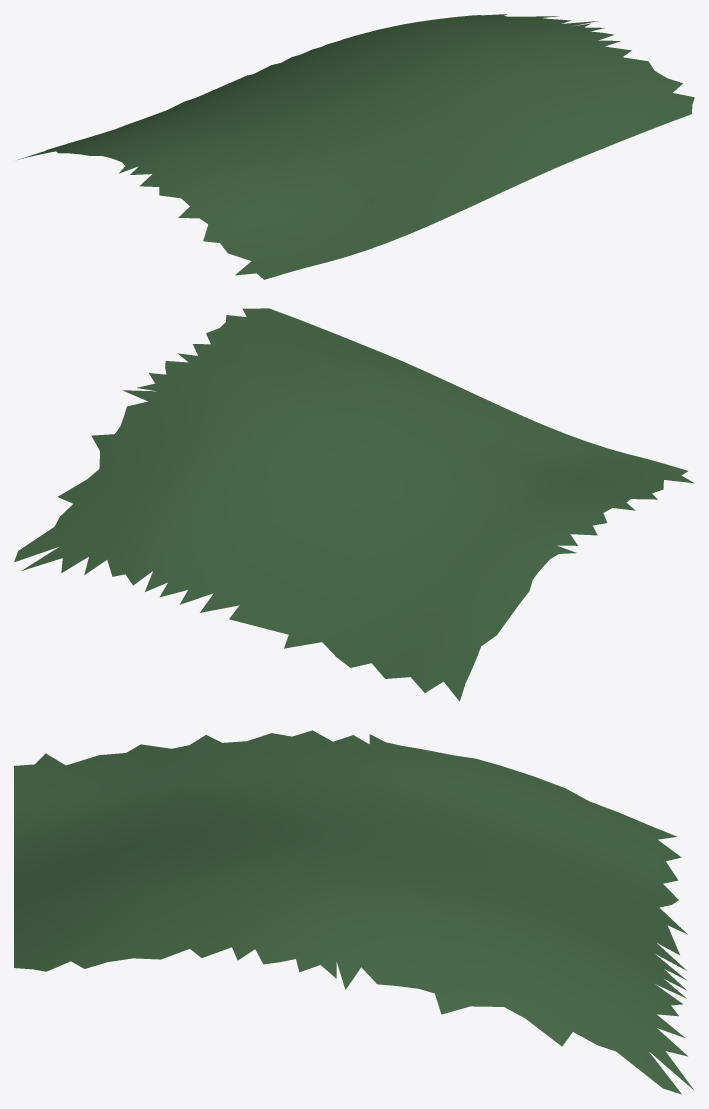
Rendered from payo_land_xm3_y10.glb.
3 views of the same model, one above another, from view 1: azimuth 30°, elevation 25°; view 2: azimuth 150°, elevation 25°; view 3: azimuth 270°, elevation 25° (orthographic). The views are drawn at different scales.
Parts seen in each view (by area): view 1: payo_land_xm3_y10; view 2: payo_land_xm3_y10; view 3: payo_land_xm3_y10.
Boxes of the visible parts, x1,y1,x2,y2 form: payo_land_xm3_y10: (18, 14, 694, 279); payo_land_xm3_y10: (14, 308, 694, 701); payo_land_xm3_y10: (14, 730, 694, 1094).
Bounding box in the file's own units: 276 × 71.63 × 250.
